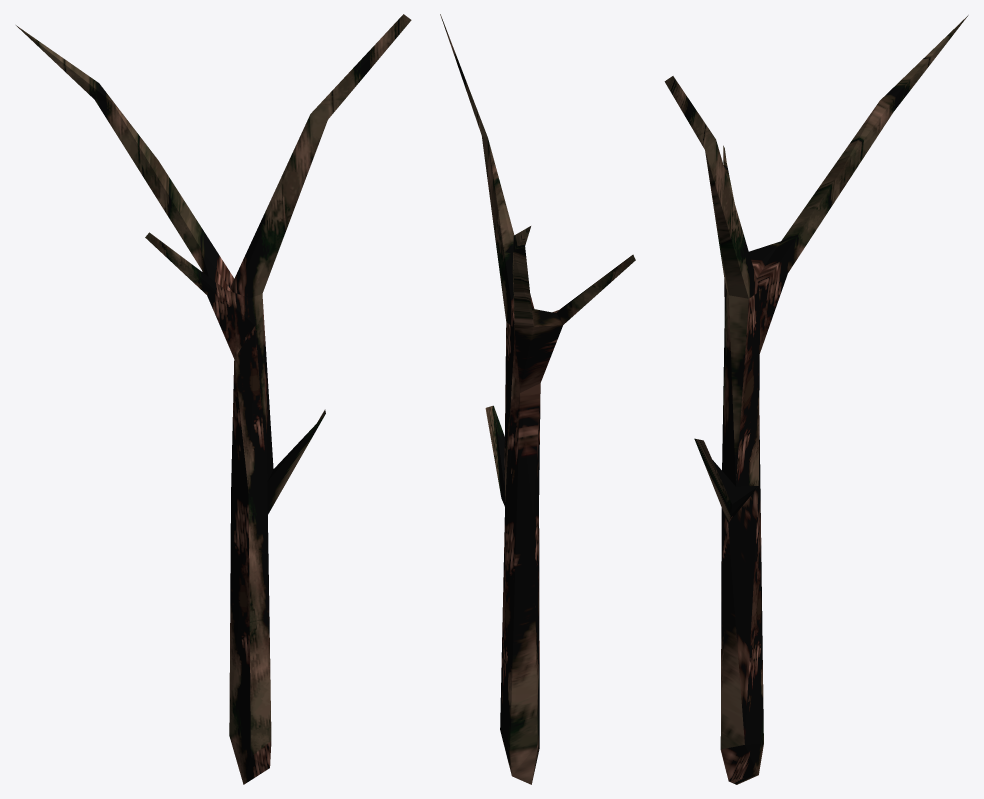
3 renders of one model, left to right at view 1: azimuth 30°, elevation 25°; view 2: azimuth 150°, elevation 25°; view 3: azimuth 270°, elevation 25°, orthographic. The views are drawn at different scales.
Visible parts, largest first — view 1: BT_1; view 2: BT_1; view 3: BT_1.
Part boxes in pixels (x1,y1,x2,y2): BT_1: [16, 14, 411, 784]; BT_1: [440, 14, 635, 784]; BT_1: [664, 15, 968, 784].
Bounding box in the file's own units: 13.01 × 38.41 × 13.74.
Materials: 1 (1 with a texture image).
